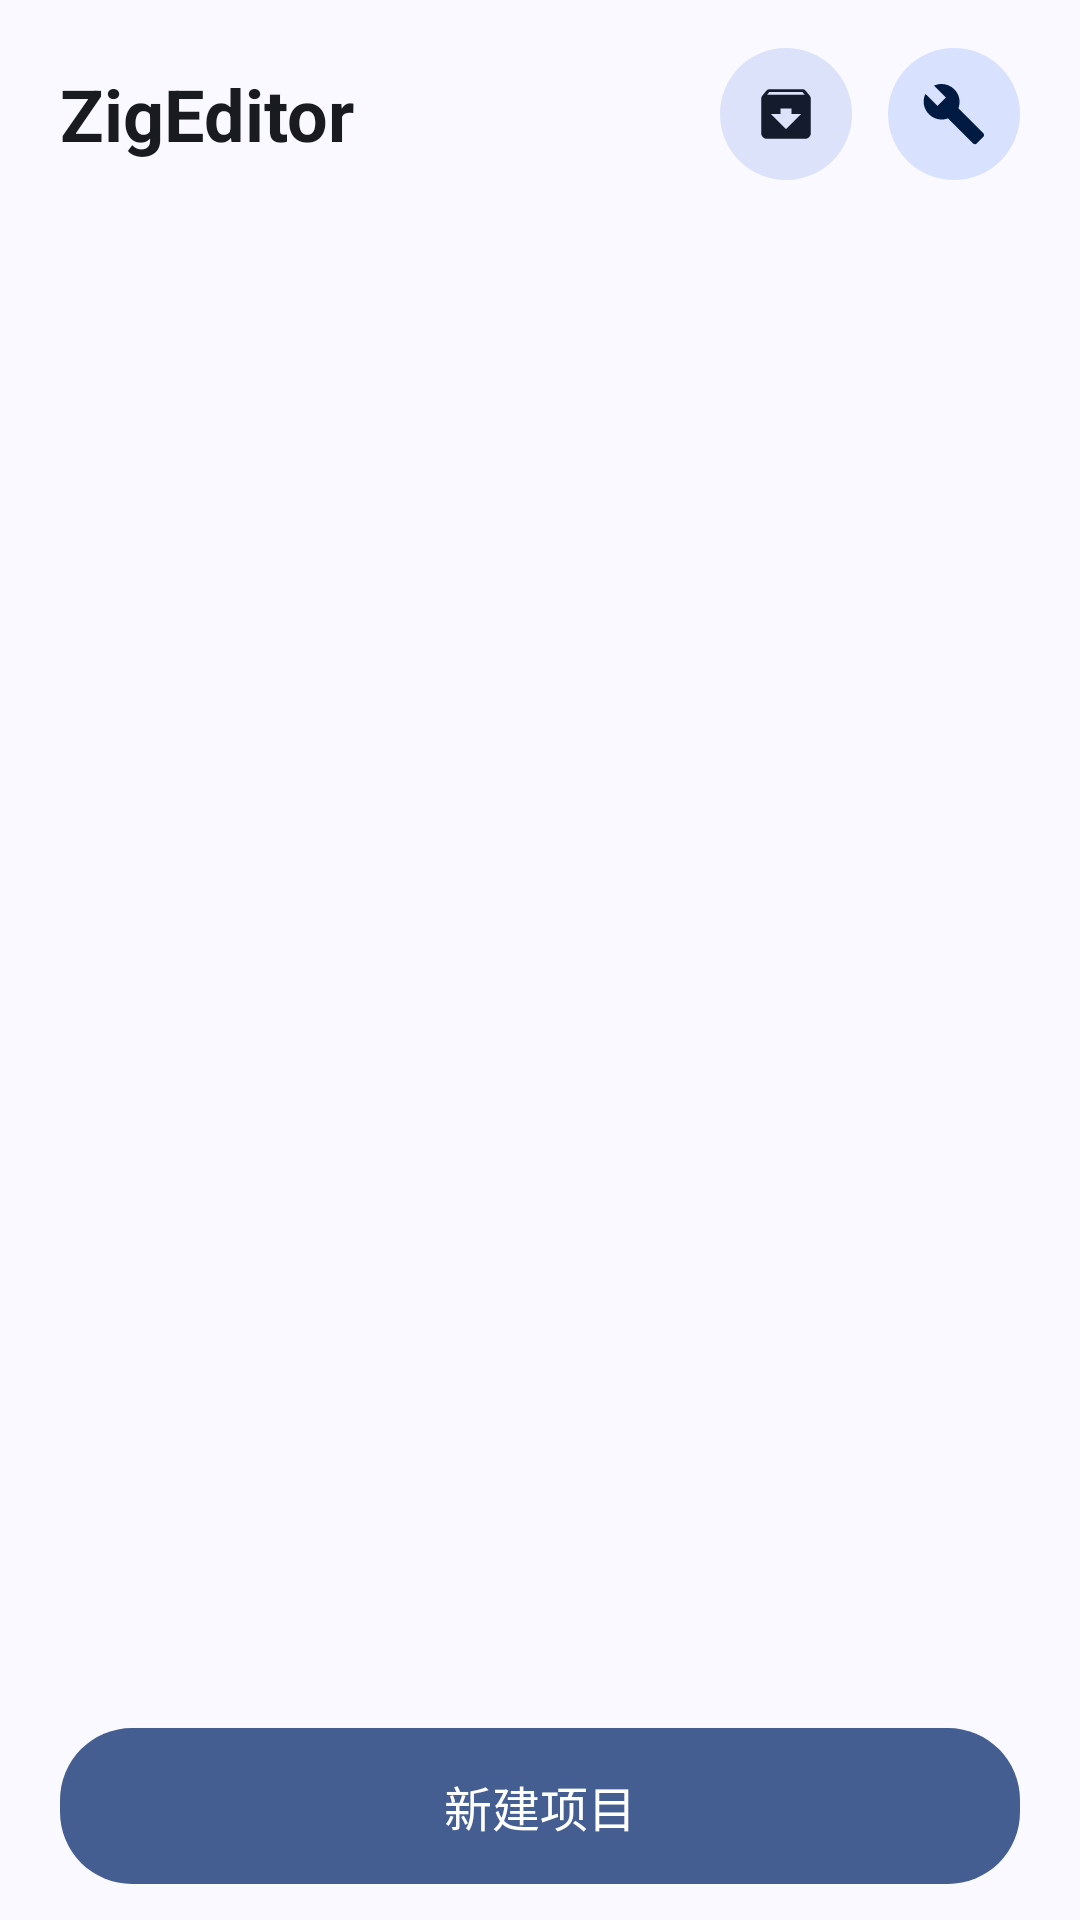

Locate icon controls on the screen. Image size 1080px x 1920px, boxes as (x1, y1, x2, y2).
导入项目: (720, 48, 852, 180)
